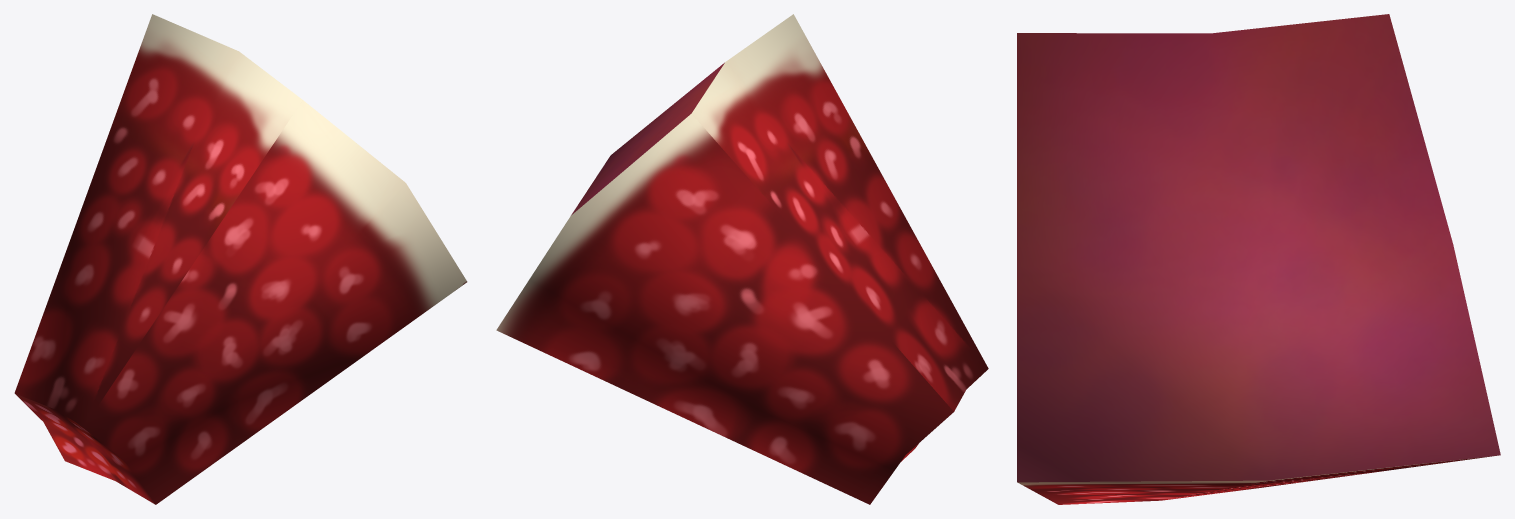
File: PartGarnet_1.fbx
The picture shows the model from 3 angles, left to right: view 1: azimuth 30°, elevation 25°; view 2: azimuth 150°, elevation 25°; view 3: azimuth 270°, elevation 25°; orthographic projection. The views are drawn at different scales.
Parts seen in each view (by area): view 1: Sphere.005; view 2: Sphere.005; view 3: Sphere.005.
Boxes of the visible parts, x1,y1,x2,y2 form: Sphere.005: (14,14,467,504); Sphere.005: (496,14,988,504); Sphere.005: (1017,14,1500,504).
Bounding box in the file's own units: 49.88 × 47.14 × 36.32.
